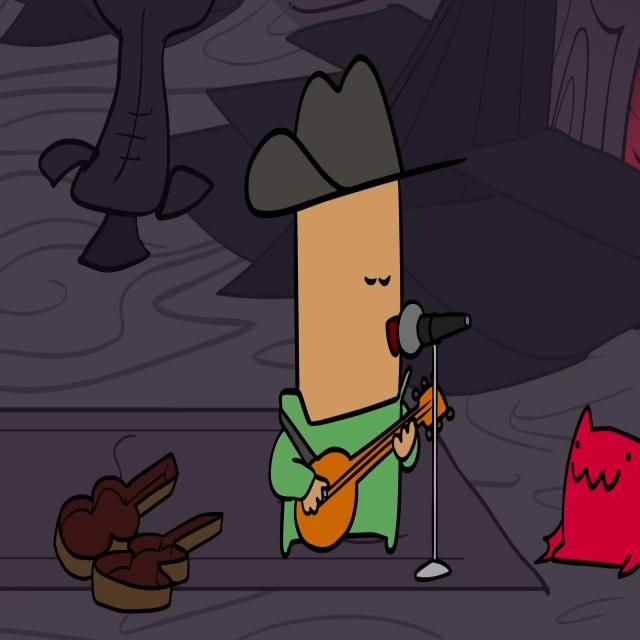Banjovi: (243, 52, 467, 561)
